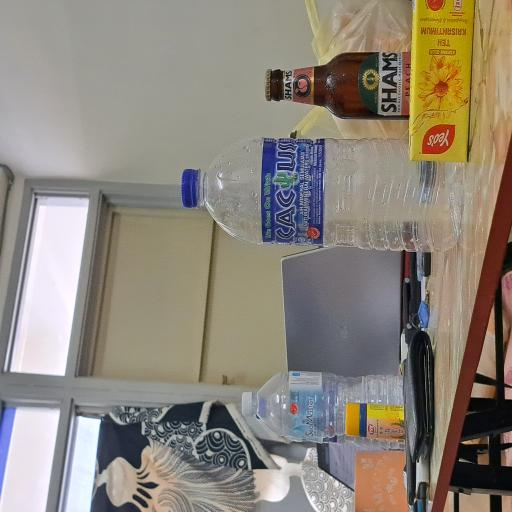glass bottle: (292, 352, 346, 512)
plastic bottle: (199, 268, 283, 512), (53, 341, 109, 512)
plastic bottle cap: (230, 240, 258, 269), (74, 316, 90, 338)
